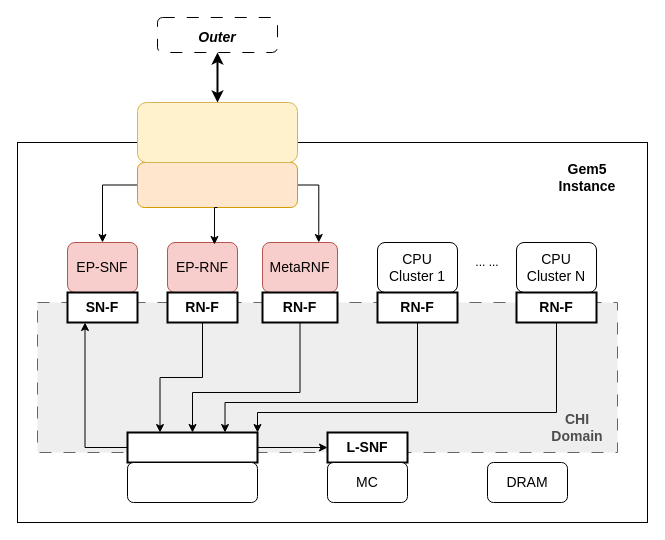
This 665x540 diagram has some shape labels left out. The shapes that lost their labels are listed below. From the top down, each one's centre as x and y in pixels, then its label:
At (x=217, y=132): "UBAdapter".
At (x=217, y=185): "EPBackend".
At (x=192, y=447): "HN-F".
At (x=192, y=482): "HA / L3$".
